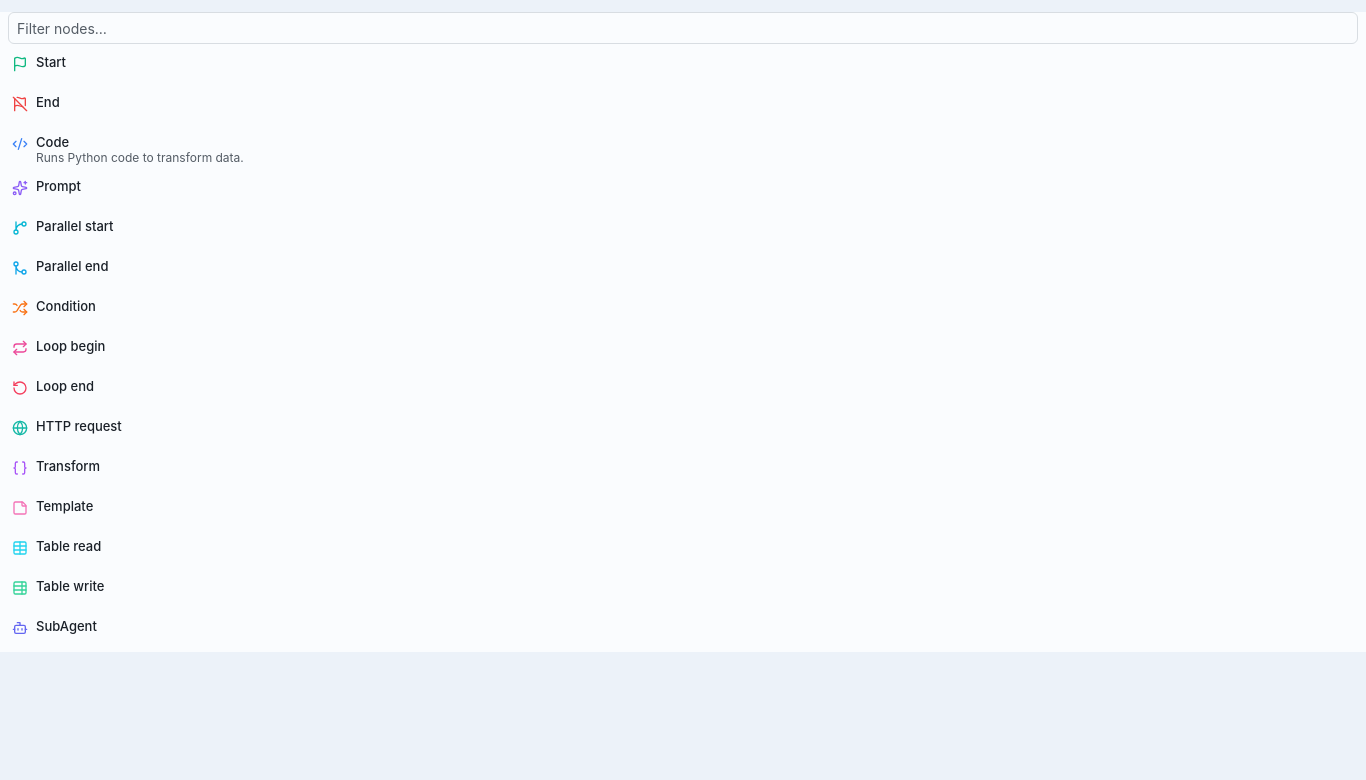
Test case: NodesSection › shows the no-match empty state
In the field with placeholder "Filter nodes…": (683, 28) [8, 12, 1358, 44], type "zzzznope"
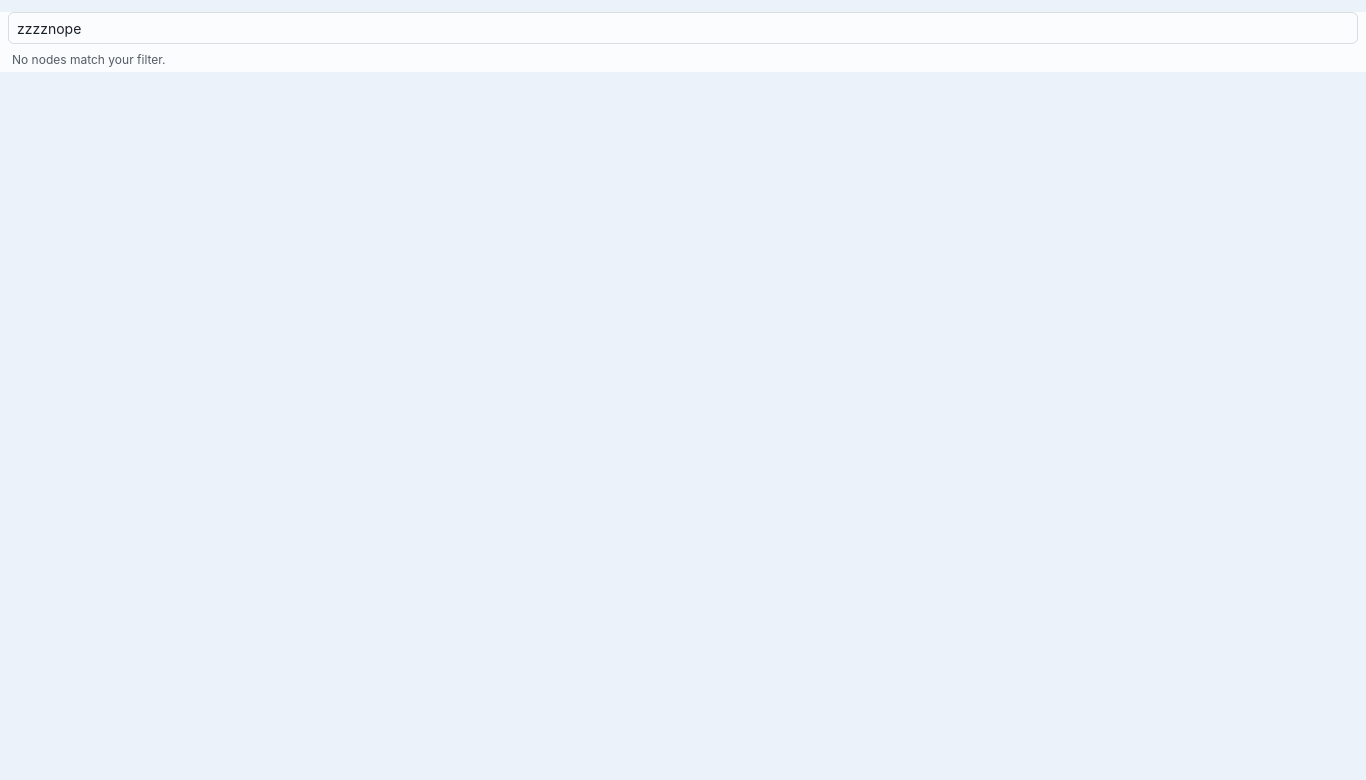
Now the text "No nodes match your filter." is shown, box [12, 52, 166, 67]
